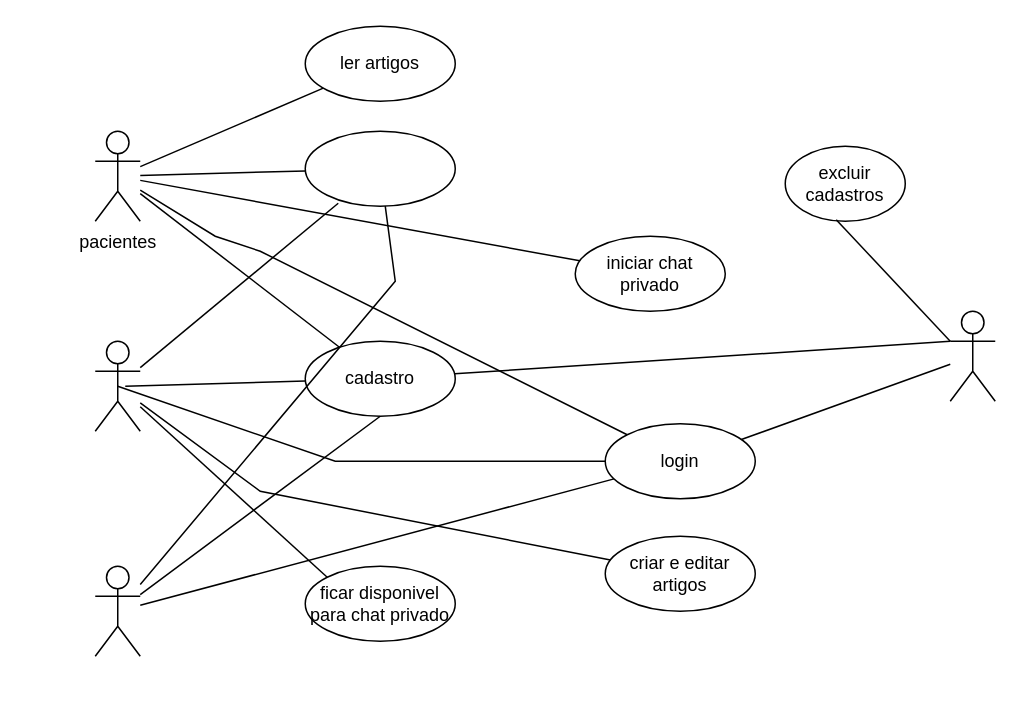
This 1022x714 diagram has some shape labels left out. The shapes that lost their labels are listed below. From the top down, each one's centre as x and y in pixels, then its label:
At point 379,168: "entrar\criar chat em grupo".
At point 972,355: "adm".
At point 117,385: "psicologos".
At point 117,610: "estudante de pscologia".
